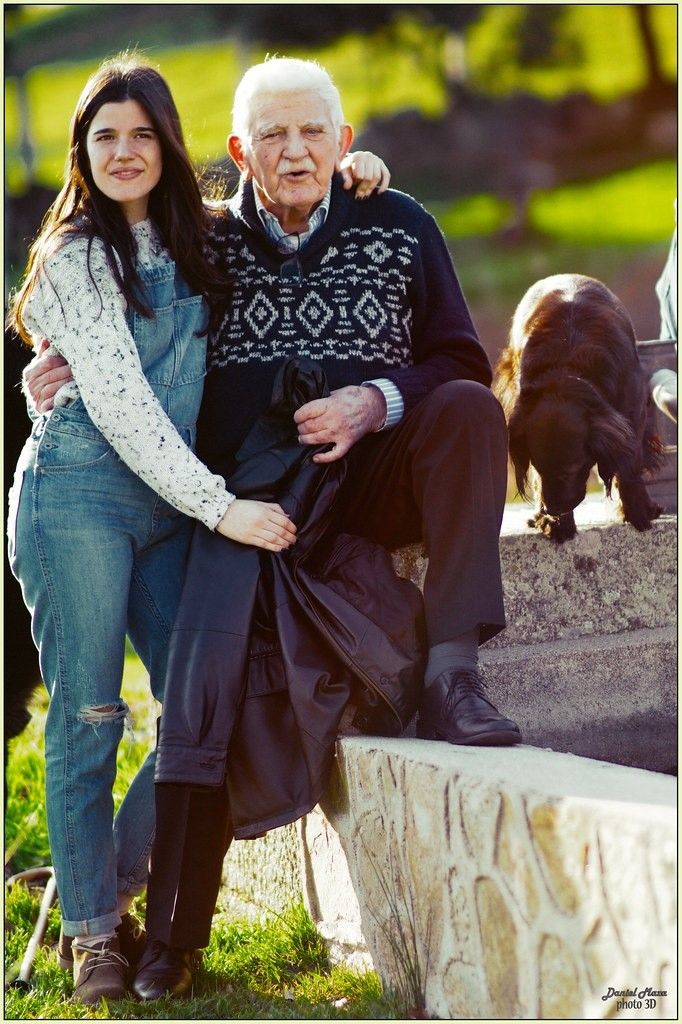face_no_mask: (223, 58, 353, 206), (81, 68, 177, 204)
